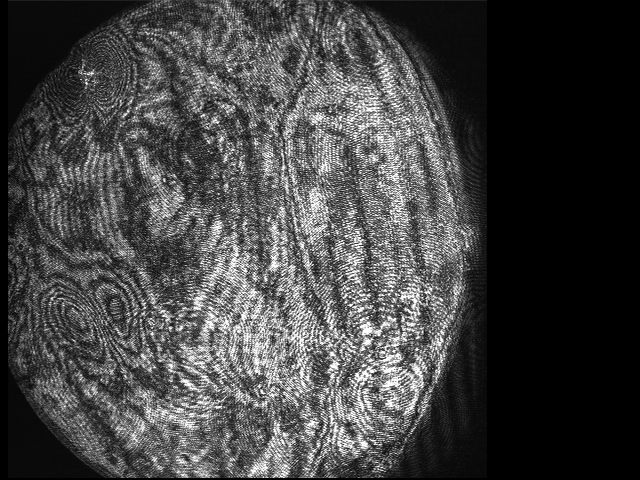plume: (44, 22, 135, 126), (47, 274, 146, 360)
